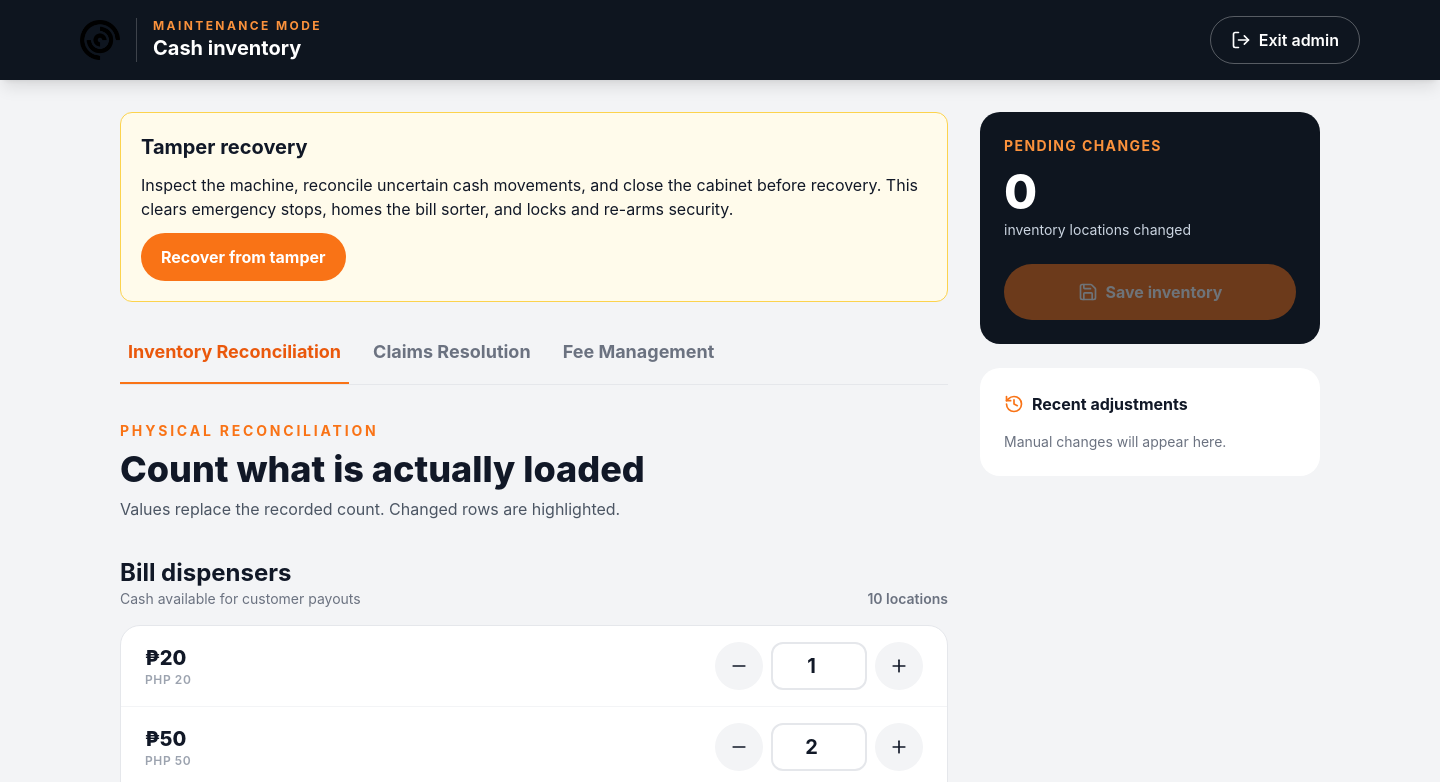
Test: routes provisional MISSING claims to the appropriate review
The image size is (1440, 782).
Click the button "Claims Resolution" at (452, 361), box x1=365 y1=338 x2=539 y2=384
(page scrolled)
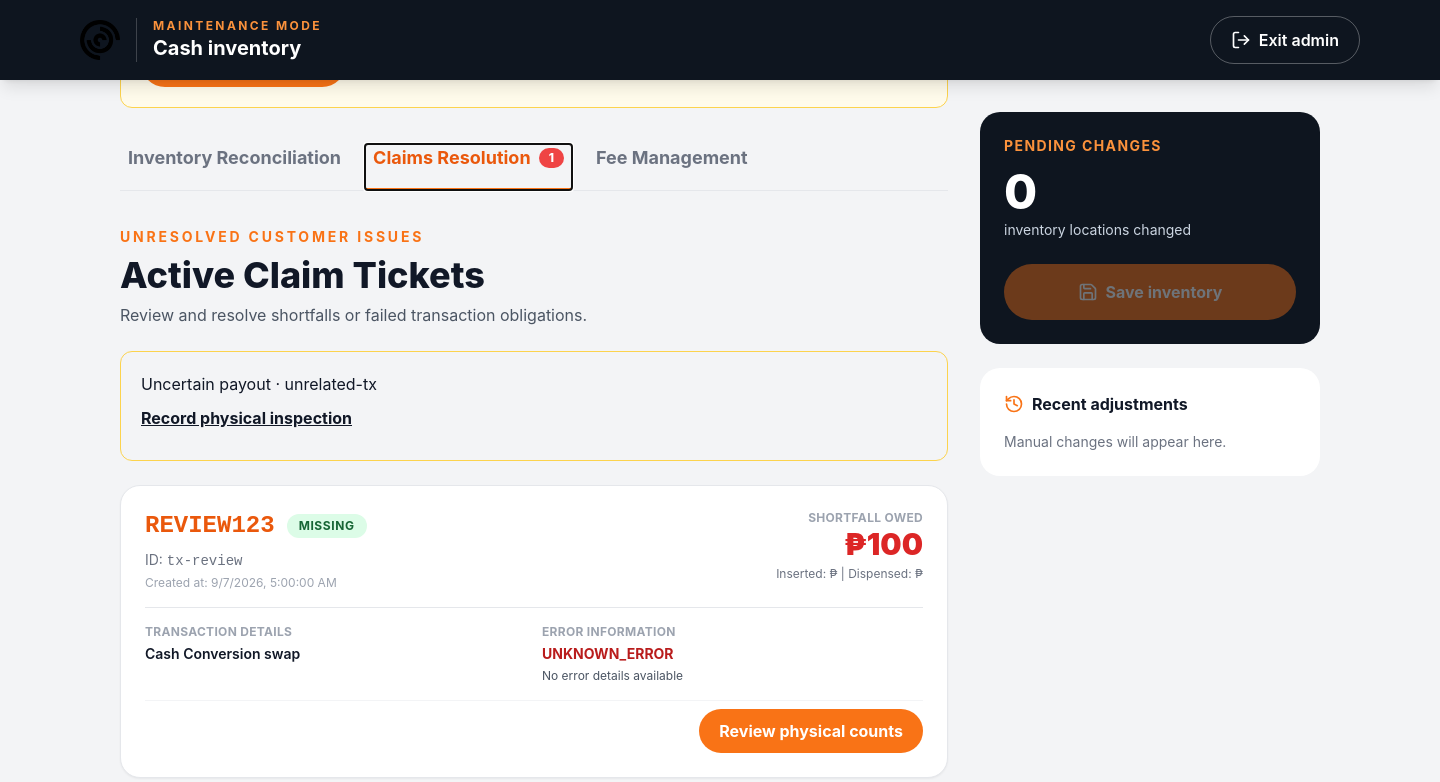
Click the button "Review physical counts" at (811, 731), box x1=699 y1=709 x2=923 y2=753
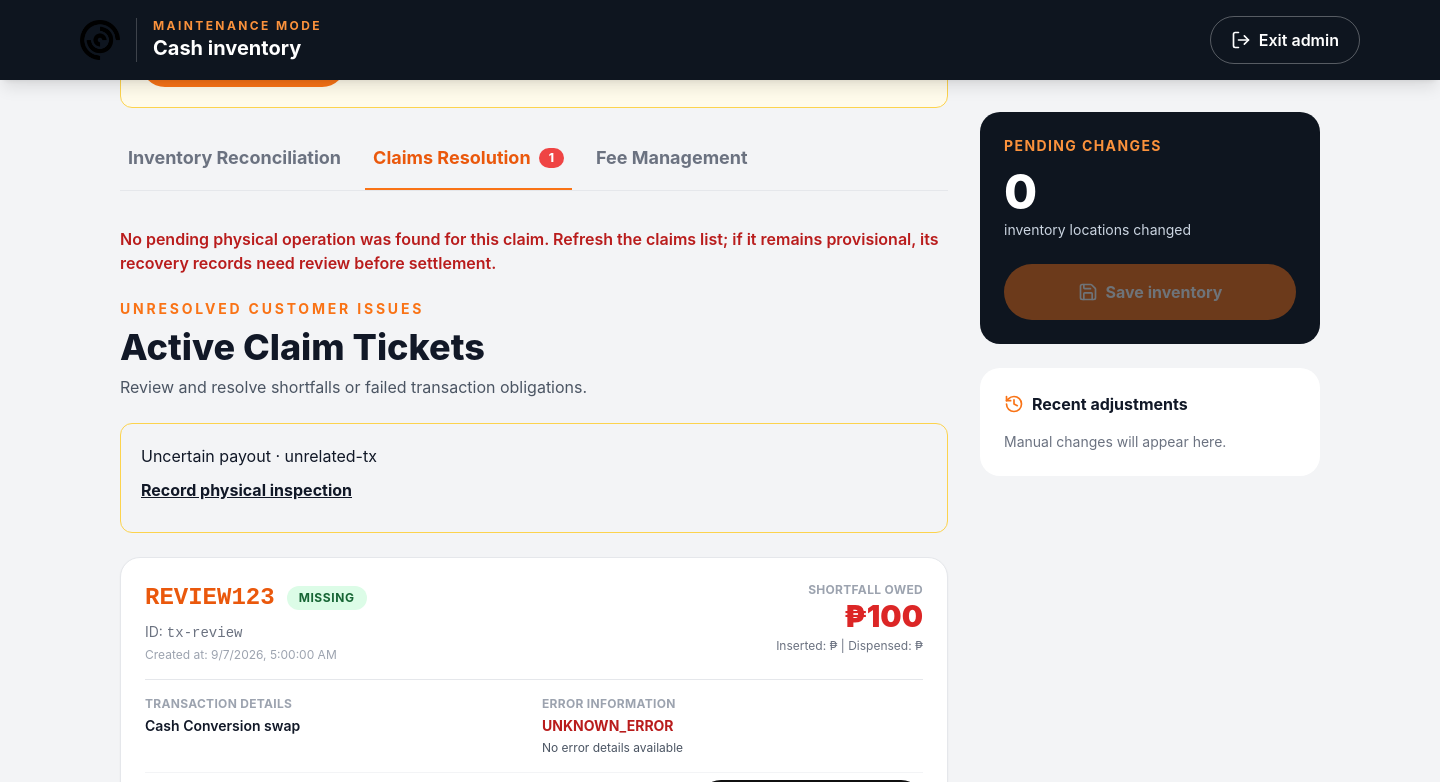
Now the message shows "No pending physical operation was found", box x1=120 y1=229 x2=939 y2=273
